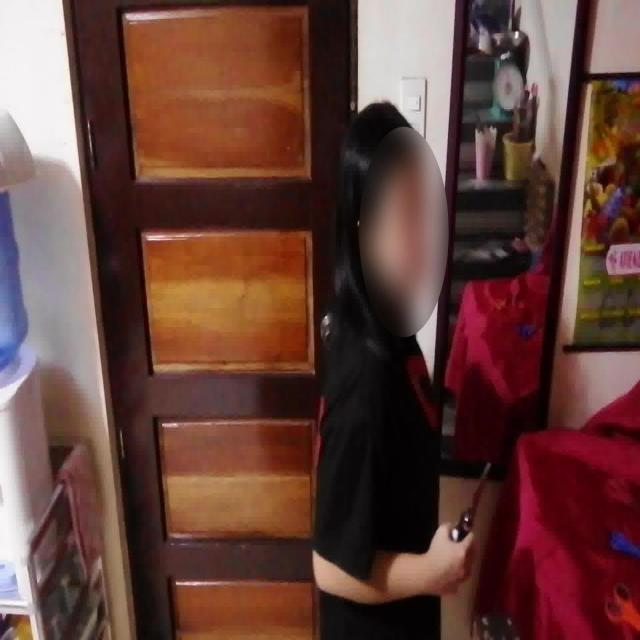scissor: (450, 461, 493, 540)
